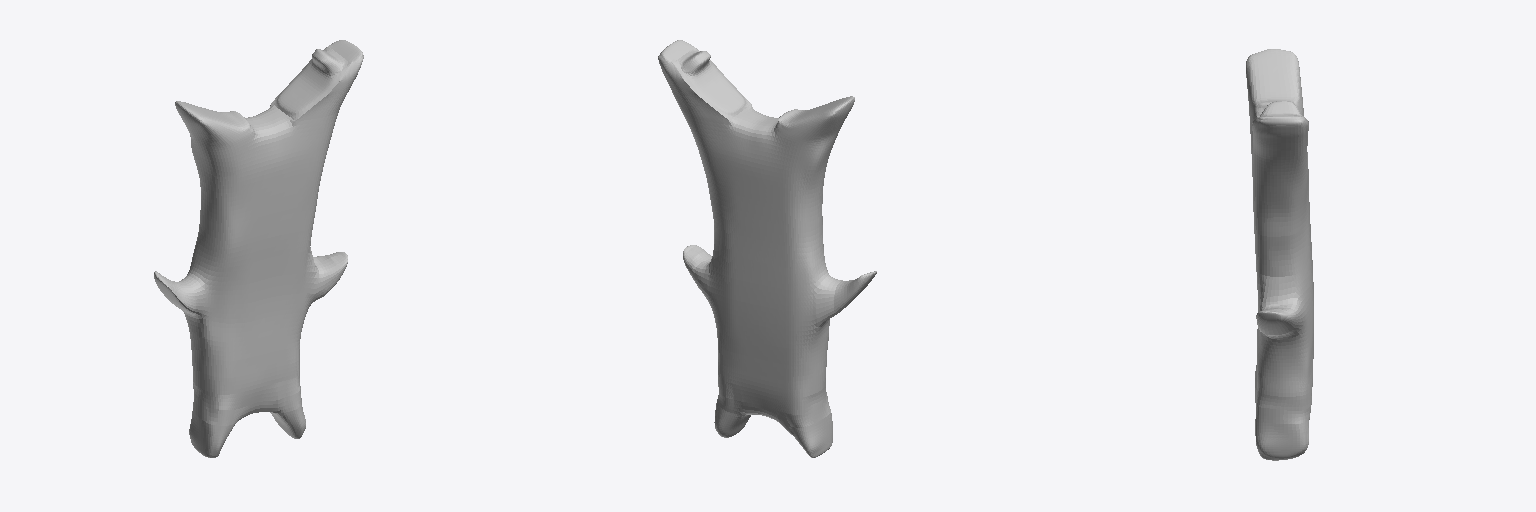
File: korok2.obj
The picture shows the model from 3 angles: view 1: azimuth 30°, elevation 25°; view 2: azimuth 150°, elevation 25°; view 3: azimuth 270°, elevation 25°; orthographic projection.
Parts seen in each view (by area): view 1: Plane; view 2: Plane; view 3: Plane.
Boxes of the visible parts, <box> form: Plane: <box>154,40,363,457</box>; Plane: <box>658,40,876,457</box>; Plane: <box>1246,49,1313,460</box>.
Bounding box in the file's own units: 1.03 × 1.82 × 0.3004.